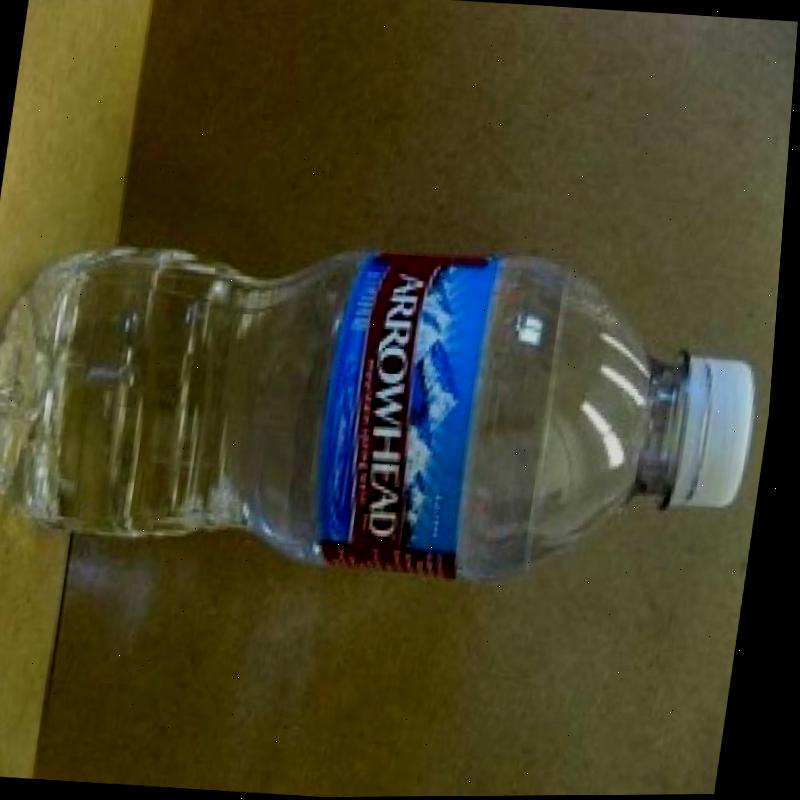botella: (0, 211, 785, 608)
